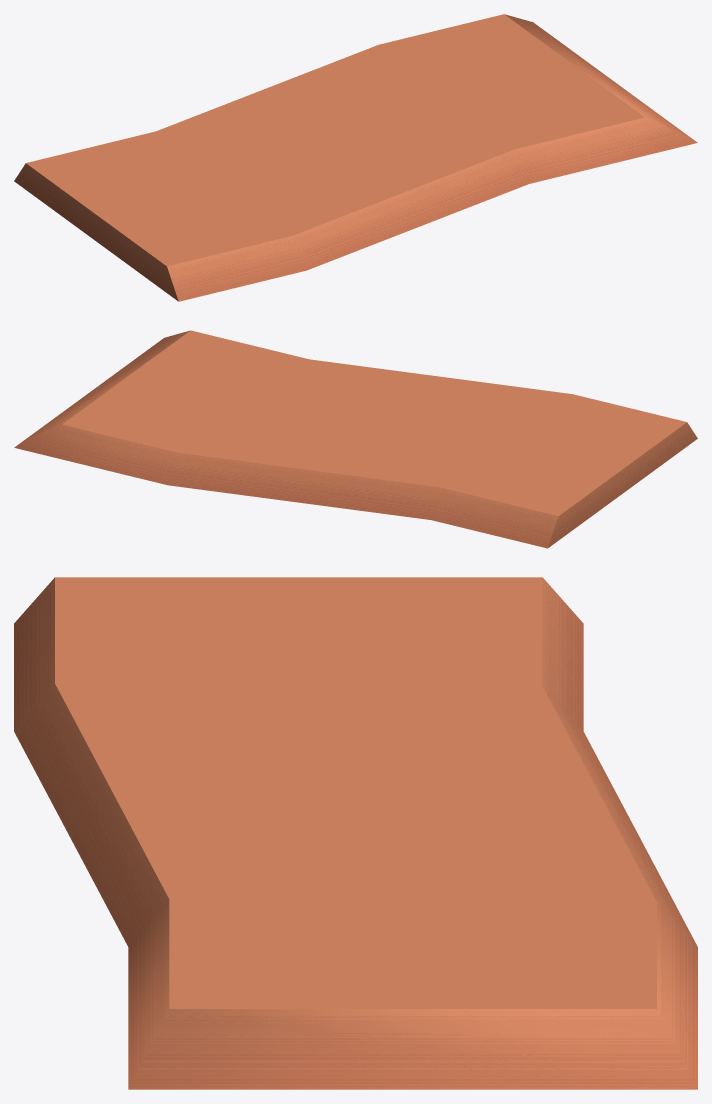
Rendered from path-end.glb.
3 renders of one model, top to bottom at view 1: azimuth 30°, elevation 25°; view 2: azimuth 150°, elevation 25°; view 3: azimuth 270°, elevation 25°, orthographic. The views are drawn at different scales.
Visible parts, largest first — view 1: path-end; view 2: path-end; view 3: path-end.
Part boxes in pixels (left/top/right/bottom): path-end: left=14, top=14, right=697, bottom=301; path-end: left=14, top=330, right=697, bottom=548; path-end: left=14, top=577, right=697, bottom=1089.
Bounding box in the file's own units: 0.54 × 0.025 × 0.335.
1 material, 1 textured.
